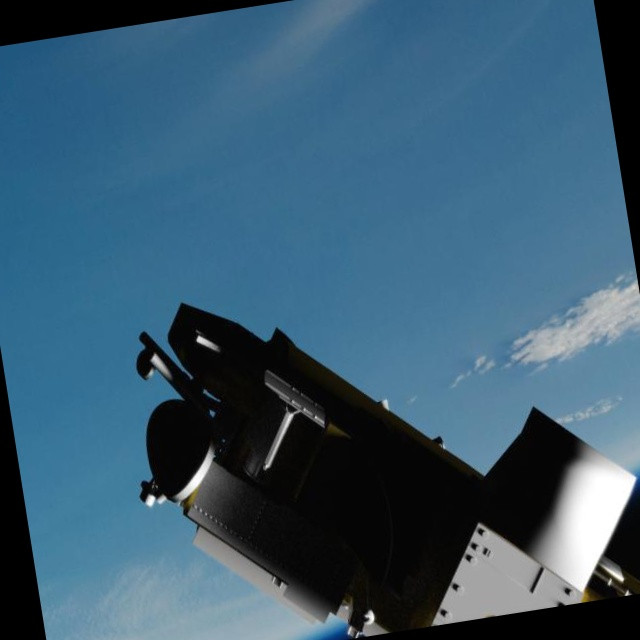satellite: (77, 187, 640, 640)
